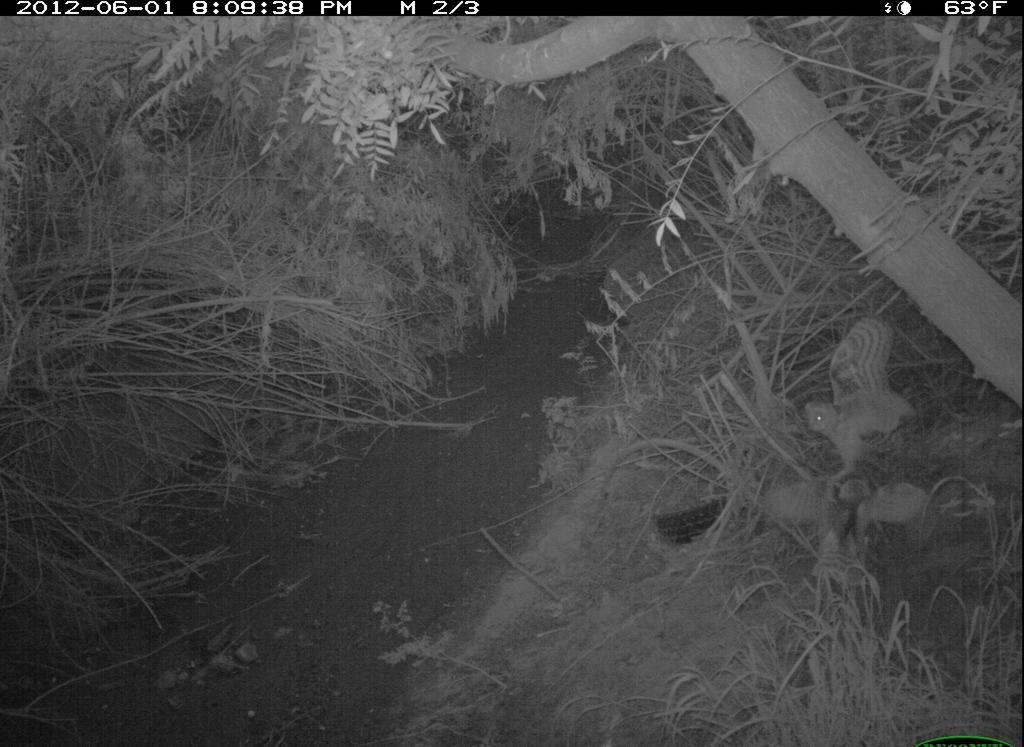bird: (794, 312, 924, 486), (761, 474, 937, 590)
